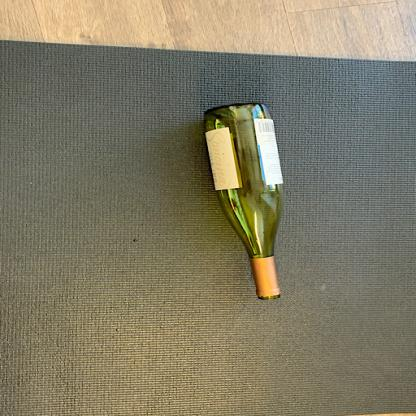trash: (198, 99, 292, 299)
